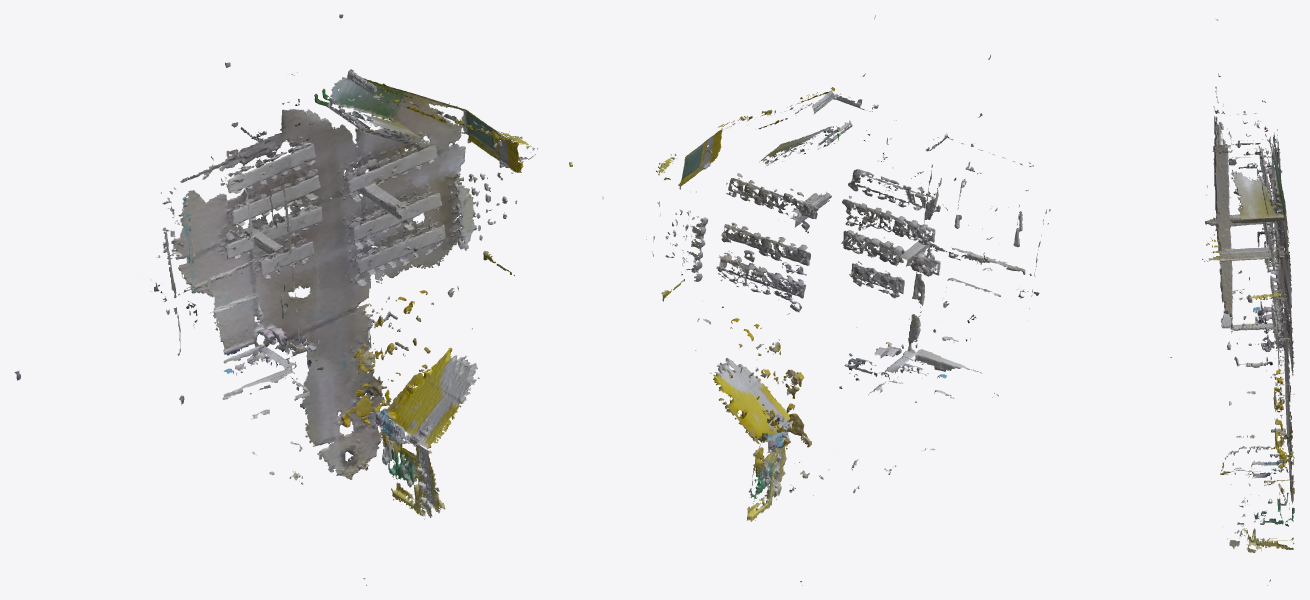
File: cafeteria_ours.glb
3 renders of one model, left to right at view 1: azimuth 30°, elevation 25°; view 2: azimuth 150°, elevation 25°; view 3: azimuth 270°, elevation 25°, orthographic. The views are drawn at different scales.
Parts seen in each view (by area): view 1: cafeteria_ours.ply; view 2: cafeteria_ours.ply; view 3: cafeteria_ours.ply.
Part boxes in pixels (x1,y1,x2,y2): cafeteria_ours.ply: [14, 14, 572, 585]; cafeteria_ours.ply: [602, 15, 1171, 585]; cafeteria_ours.ply: [1202, 19, 1294, 585].
Bounding box in the file's own units: 29.87 × 29.51 × 4.89.
